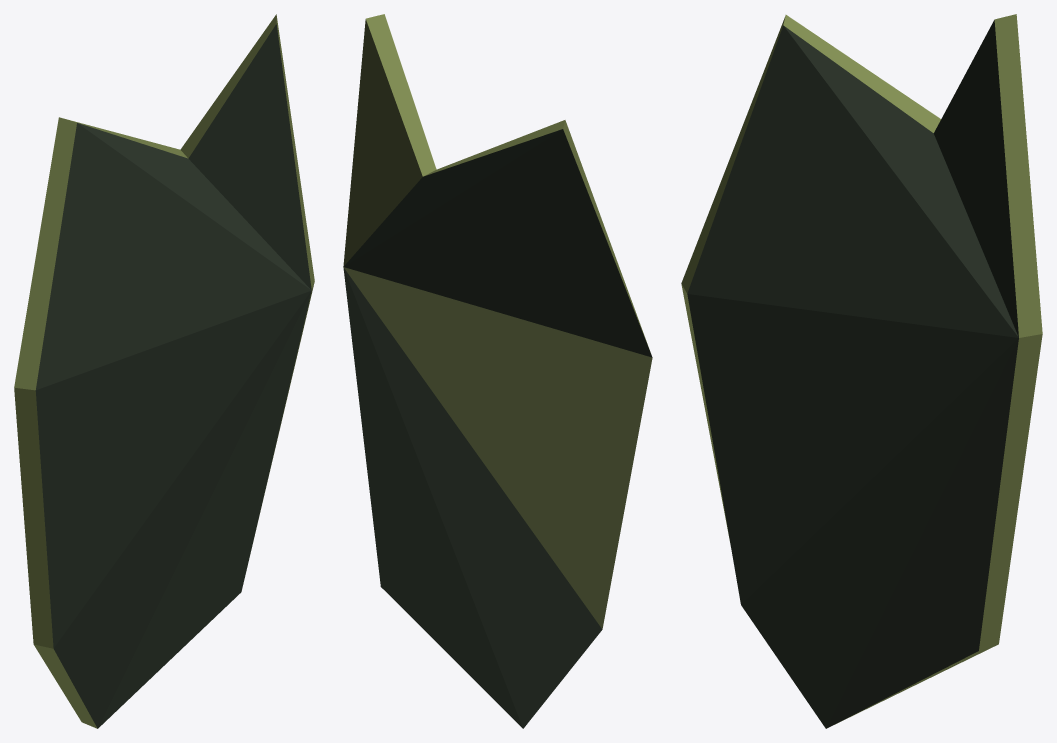
File: wine_bottle_piece_back.glb
The picture shows the model from 3 angles, left to right: view 1: azimuth 30°, elevation 25°; view 2: azimuth 150°, elevation 25°; view 3: azimuth 330°, elevation 25°; orthographic projection. The views are drawn at different scales.
Visible parts, largest first — view 1: Curved solid jagged glass.007; view 2: Curved solid jagged glass.007; view 3: Curved solid jagged glass.007.
Boxes of the visible parts, x1,y1,x2,y2 form: Curved solid jagged glass.007: (14,14,314,728); Curved solid jagged glass.007: (343,14,652,728); Curved solid jagged glass.007: (681,14,1042,728).
Bounding box in the file's own units: 0.0508 × 0.106 × 0.0123.
